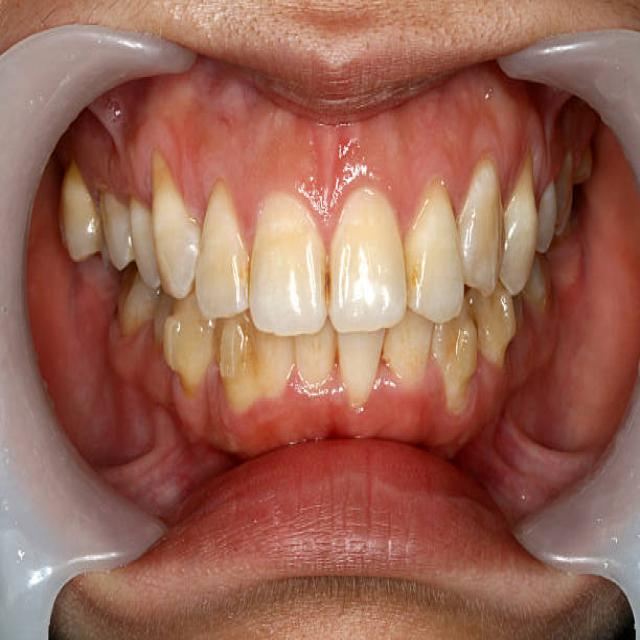caries: (322, 262, 333, 307)
